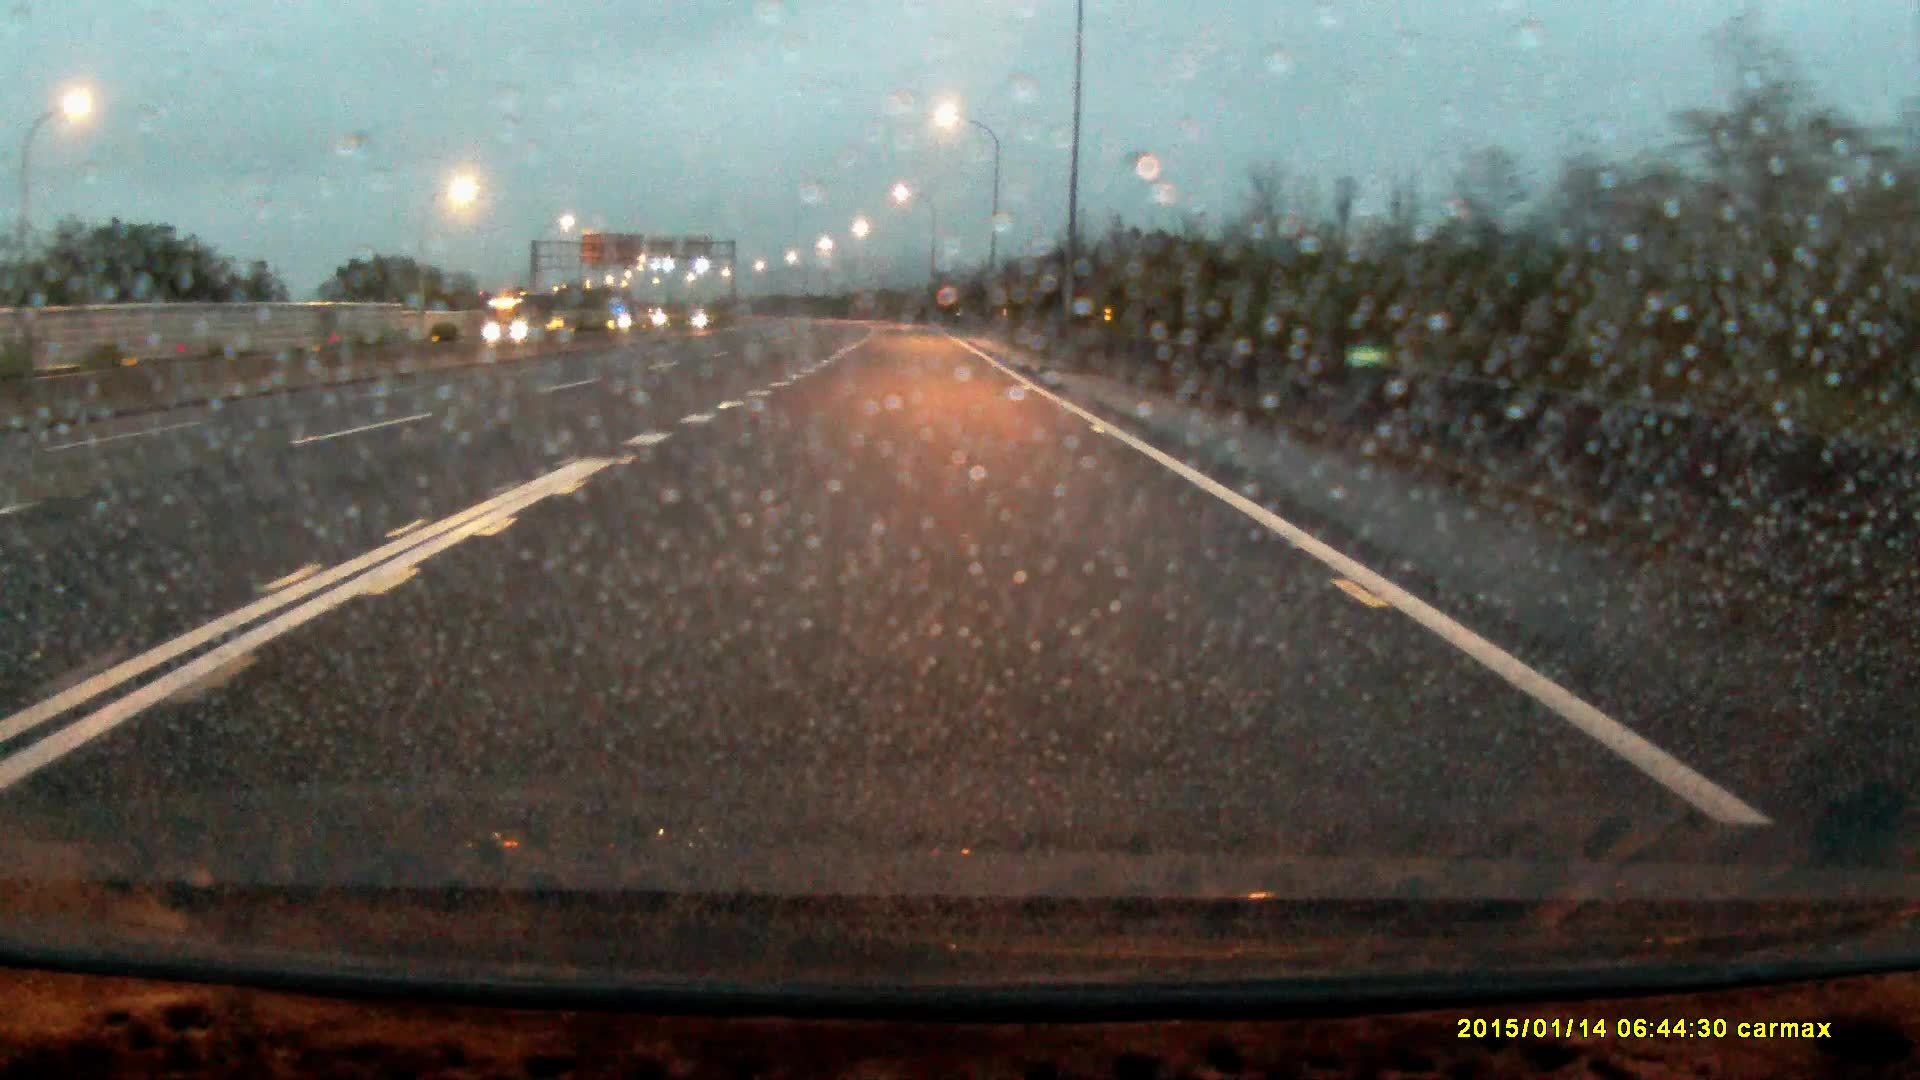vehicle: (485, 298, 555, 343)
